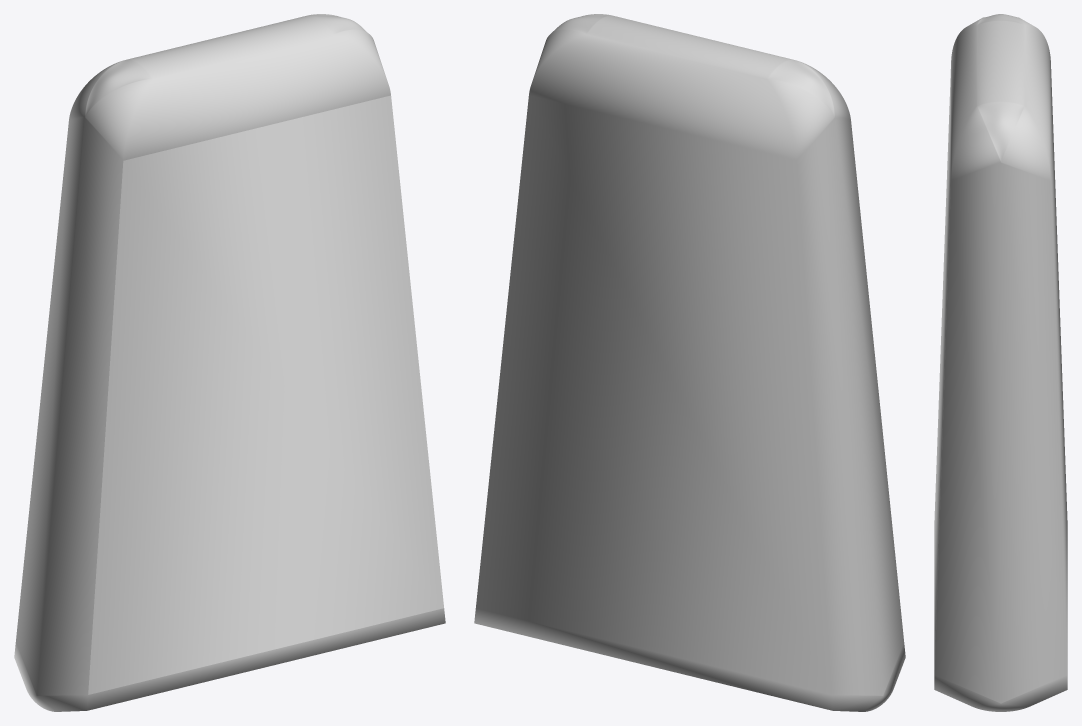
Rendered from campana-cromada-v1-cerrada.glb.
The picture shows the model from 3 angles, left to right: view 1: azimuth 30°, elevation 25°; view 2: azimuth 150°, elevation 25°; view 3: azimuth 270°, elevation 25°; orthographic projection. The views are drawn at different scales.
Visible parts, largest first — view 1: campana v2.001; view 2: campana v2.001; view 3: campana v2.001.
Boxes of the visible parts, x1=… form: campana v2.001: x1=14, y1=14, x2=445, y2=711; campana v2.001: x1=474, y1=14, x2=905, y2=711; campana v2.001: x1=934, y1=14, x2=1067, y2=711.
Size of the model in its own units: 0.1226 by 0.1871 by 0.0401.
Materials: 2 (1 with a texture image).
